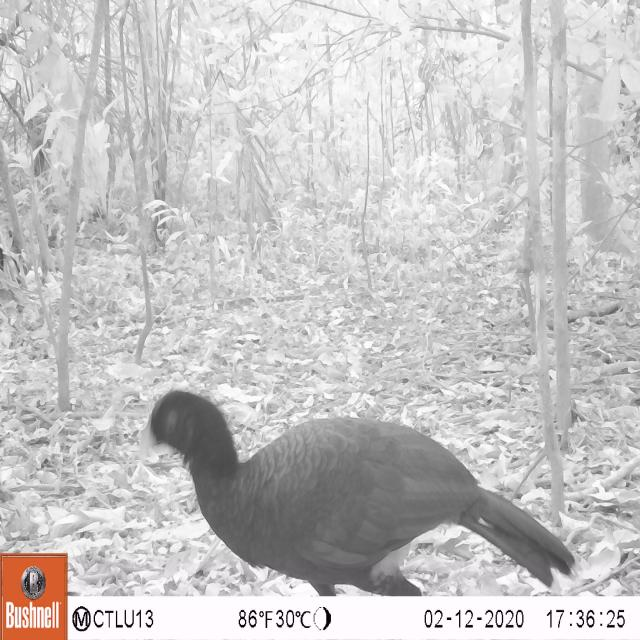Salvins Curassow: (114, 364, 577, 594)
